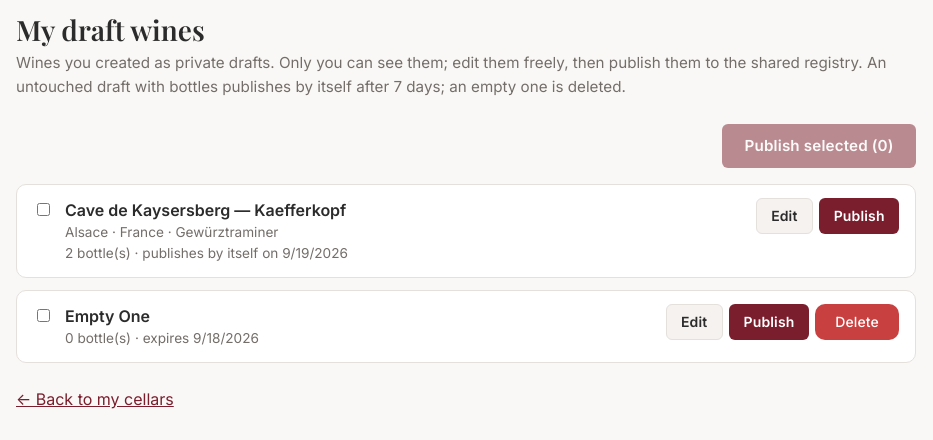
WineDrafts page › "Publish selected" sends the selected ids in one batch and renders each row's outcome
Expected: the text "Cave de Kaysersberg — Kaefferkopf" is shown, [65,200,346,220]
Expected: the button "Publish selected (0)" is disabled, [722,124,916,168]
Step 1. Click the checkbox named "Select Kaefferkopf" → click(44, 210), box [37,203,50,216]
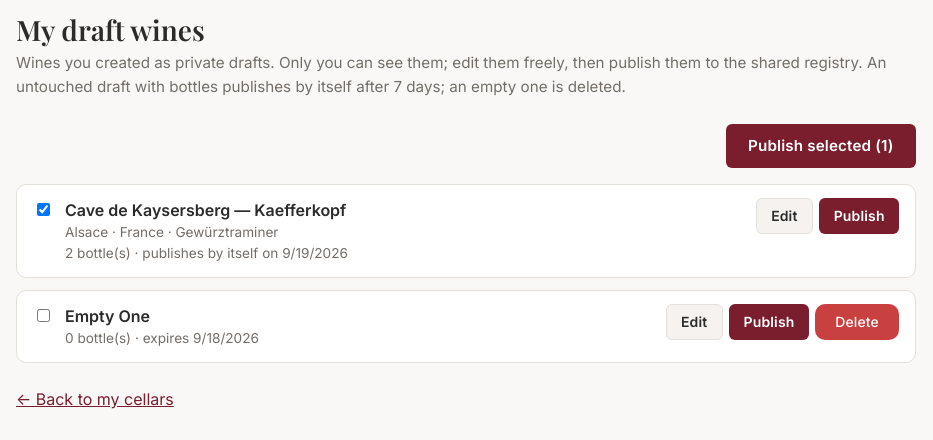
Step 2. Click the checkbox named "Select Empty One" → click(44, 316), box [37,309,50,322]
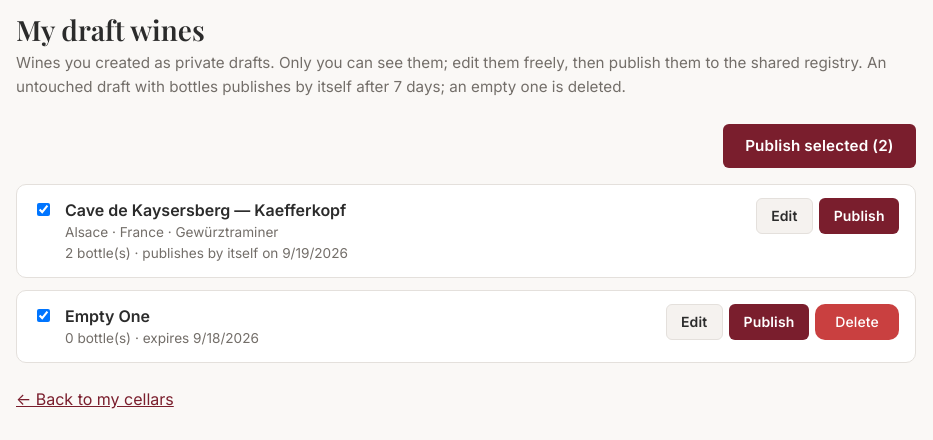
Step 3. Click the button "Publish selected (2)" → click(819, 146), box [723,124,916,168]
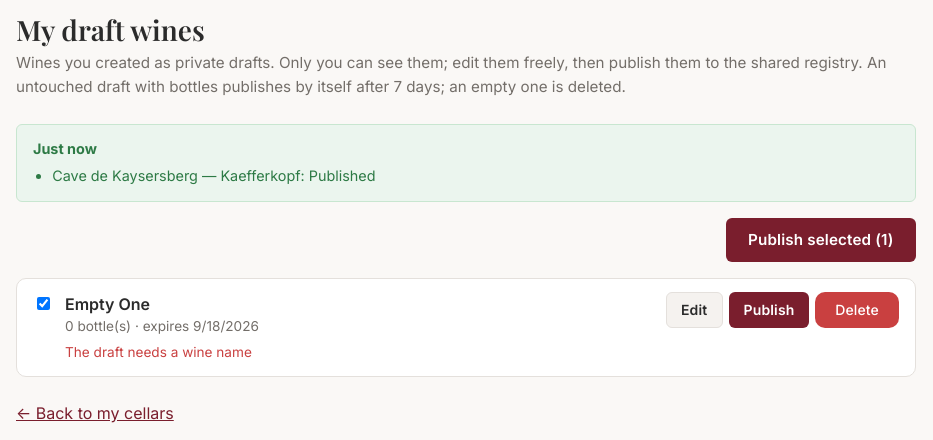
Now the text "Just now" is shown, box [33,140,97,157]
Now the list item "Cave de Kaysersberg — Kaefferkopf: Published" is shown, box [52,167,376,184]
Now the text "The draft needs a wine name" is shown, box [65,344,252,360]
